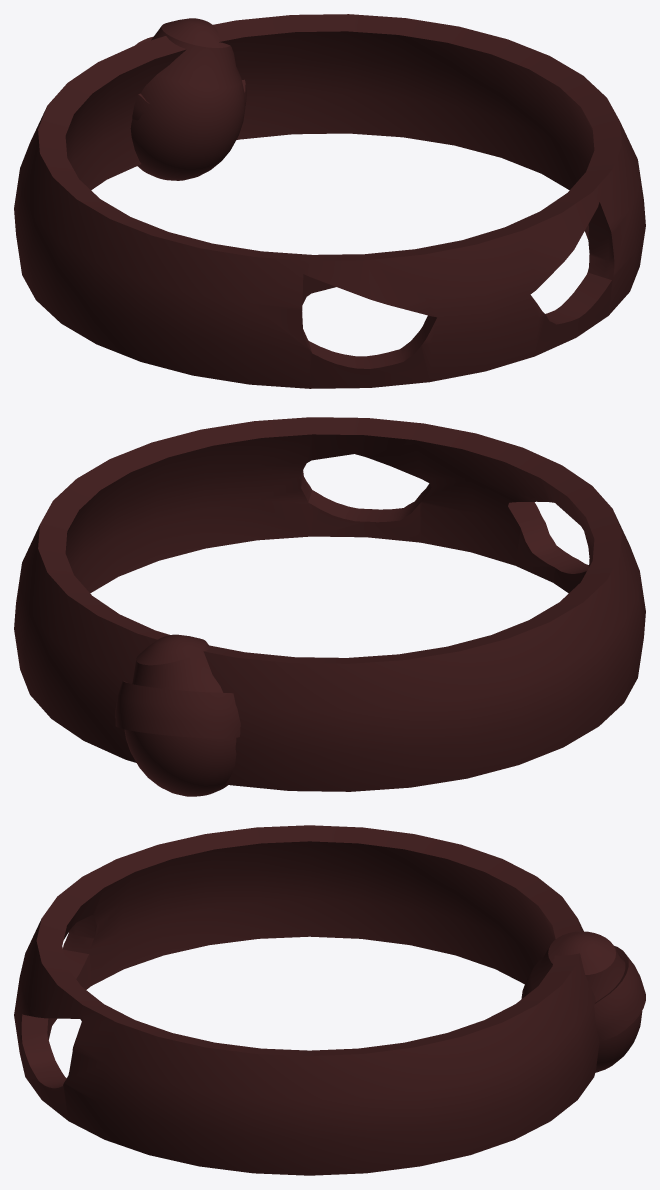
File: ninja_headband_static.fbx
The picture shows the model from 3 angles, top to bottom: view 1: azimuth 30°, elevation 25°; view 2: azimuth 150°, elevation 25°; view 3: azimuth 270°, elevation 25°; orthographic projection. The views are drawn at different scales.
Visible parts, largest first — view 1: headband.003; view 2: headband.003; view 3: headband.003.
Boxes of the visible parts, x1,y1,x2,y2 form: headband.003: (14,14,645,388); headband.003: (14,417,645,796); headband.003: (14,825,645,1175).
Size of the model in its own units: 65.59 by 17.08 by 70.08.
